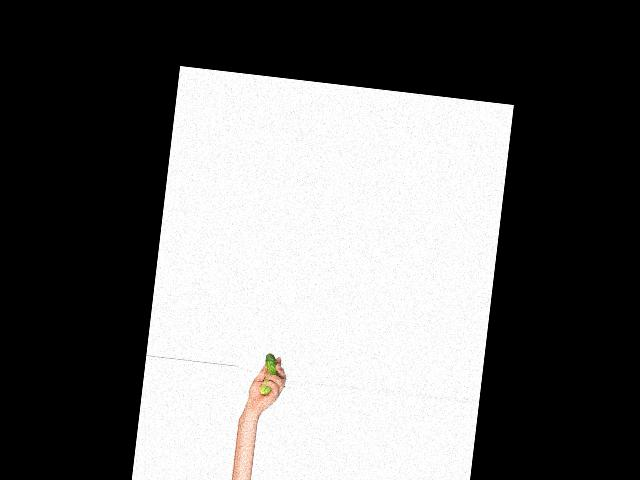cucumber: (260, 352, 279, 396)
